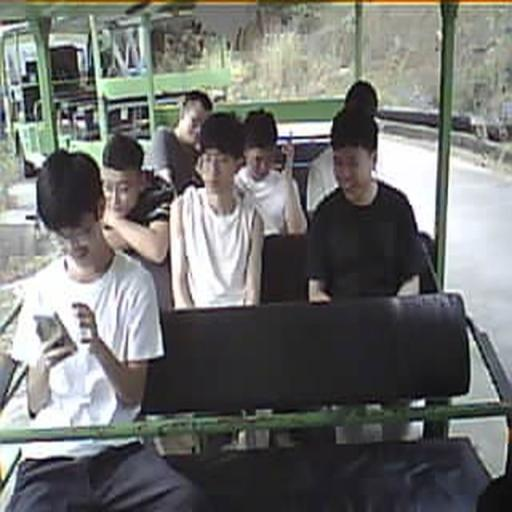persona: (4, 148, 206, 510), (306, 102, 438, 304), (168, 112, 266, 309), (99, 134, 174, 312), (306, 79, 380, 215), (233, 108, 308, 238), (149, 89, 213, 195)
